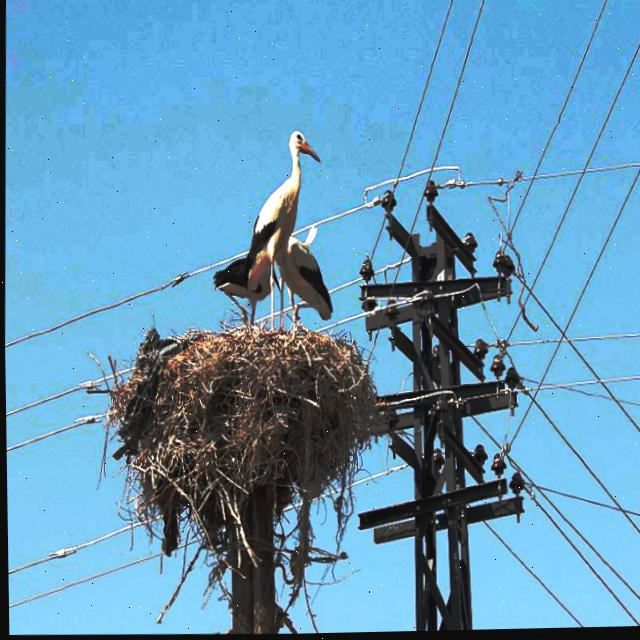obstruction: (108, 329, 373, 633)
poles: (358, 182, 521, 633)
wires: (307, 0, 640, 433), (474, 383, 640, 629), (483, 525, 582, 630), (320, 293, 389, 330)
